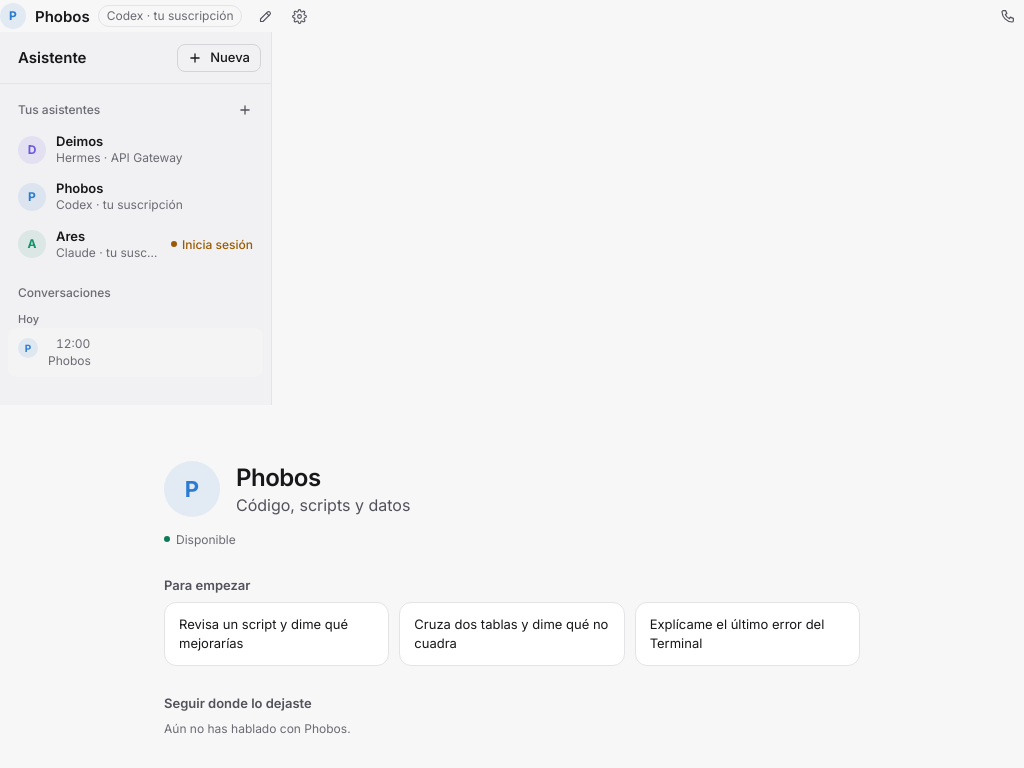
the pencil › says the hub's refusal and keeps what was written
Click the button named "Editar nombre y descripción de Phobos".
click(266, 16)  # box [250,1,280,31]
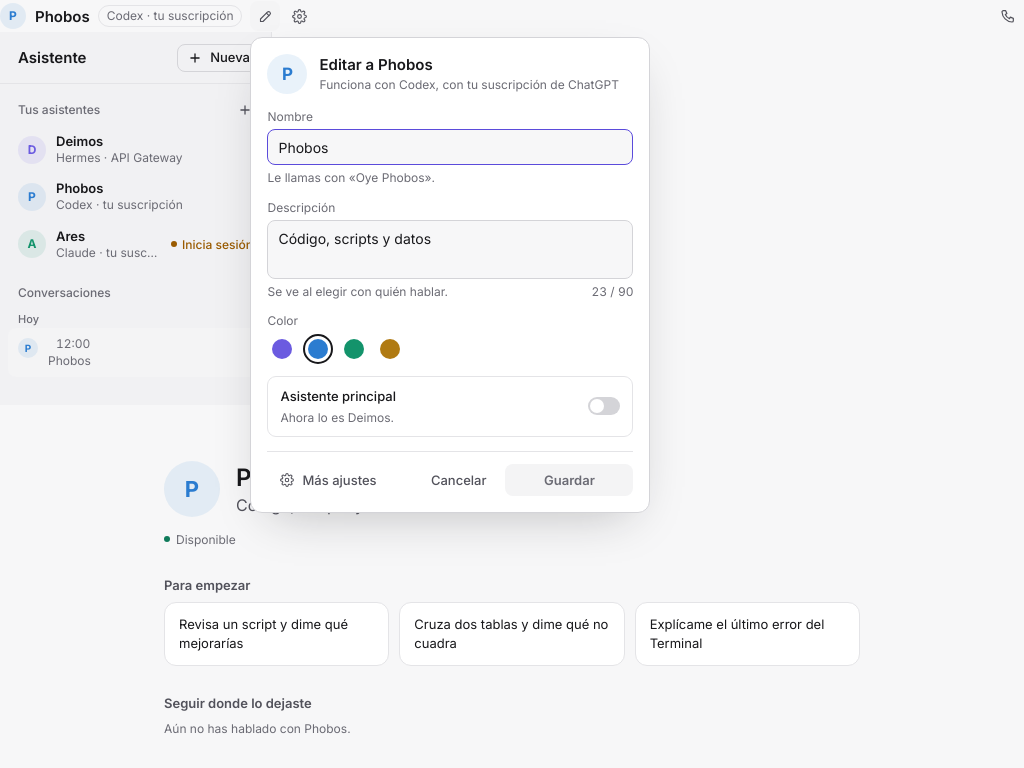
Replace the text in the field labelled "Nombre" with "Déimos 2" at [450, 147], box [268,129,634,165]
Then press Enter
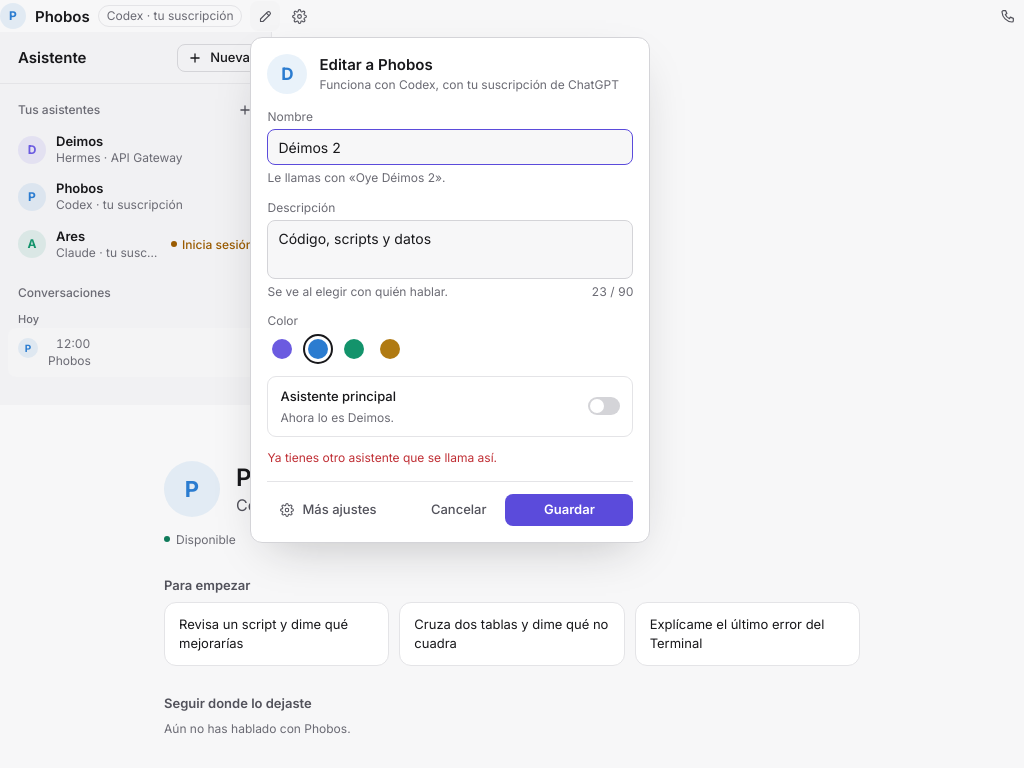
Now the message "Ya tienes otro asistente que se llama así." is shown, box [268,450,497,465]
